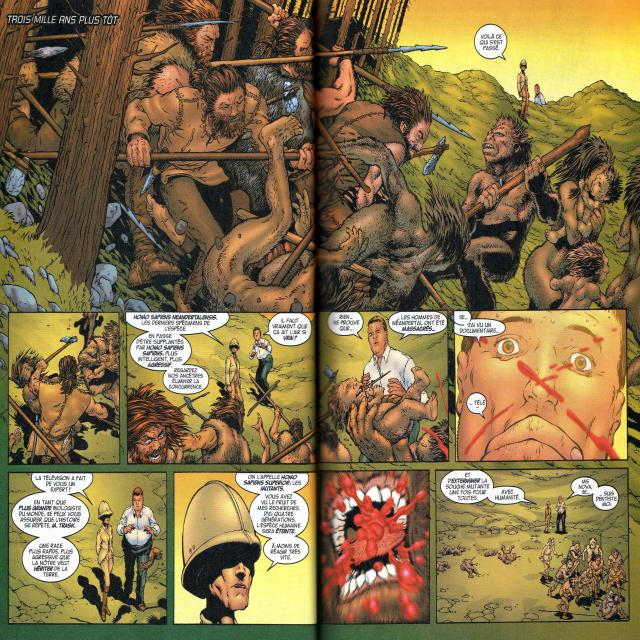comic_panel: (0, 0, 640, 640), (435, 467, 630, 625), (125, 310, 318, 465), (453, 308, 628, 462), (7, 471, 168, 626), (173, 471, 319, 626), (318, 310, 449, 463), (316, 469, 431, 624), (7, 311, 121, 467)
